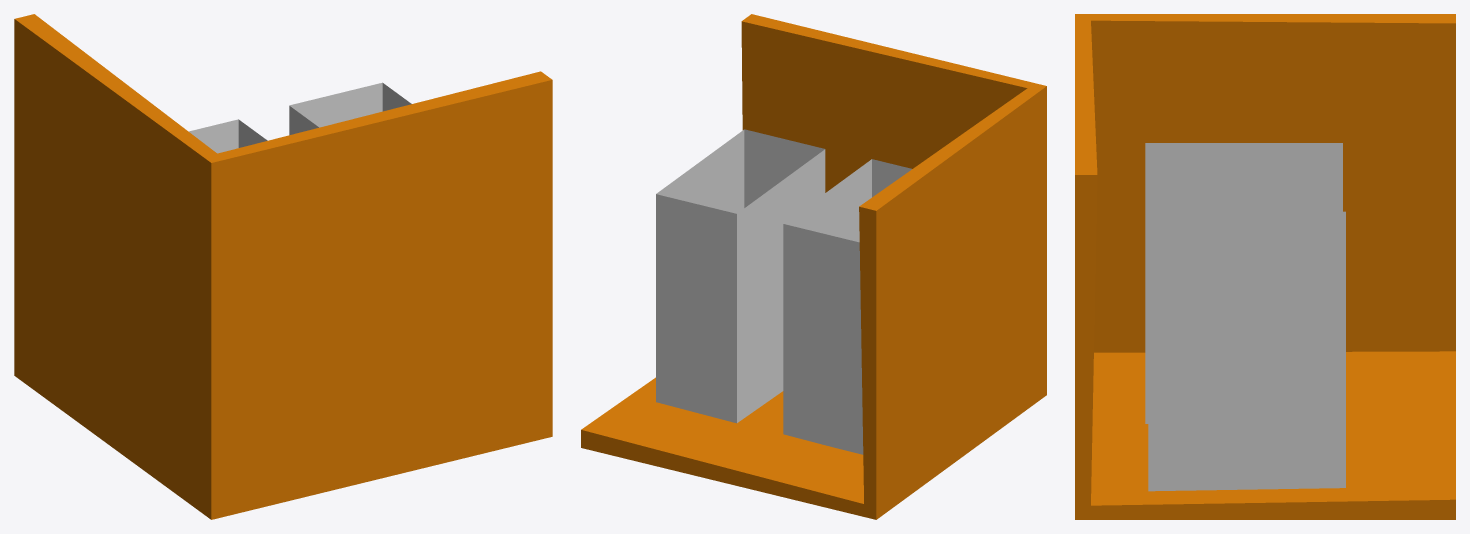
File: room_with_container1.glb
3 views of the same model, side by side, from view 1: azimuth 30°, elevation 25°; view 2: azimuth 150°, elevation 25°; view 3: azimuth 270°, elevation 25° (orthographic). The views are drawn at different scales.
Visible parts, largest first — view 1: Cube, Cube.003, Cube.004; view 2: Cube, Cube.003, Cube.004; view 3: Cube, Cube.003, Cube.004.
Boxes of the visible parts, x1,y1,x2,y2 form: Cube: (14, 14, 552, 519); Cube.003: (289, 82, 411, 135); Cube.004: (189, 119, 267, 153); Cube: (581, 14, 1046, 519); Cube.003: (656, 129, 825, 423); Cube.004: (783, 159, 911, 454); Cube: (1075, 14, 1455, 519); Cube.003: (1148, 211, 1345, 491); Cube.004: (1145, 143, 1342, 423).
Size of the model in its own units: 2 by 2.02 by 2.
